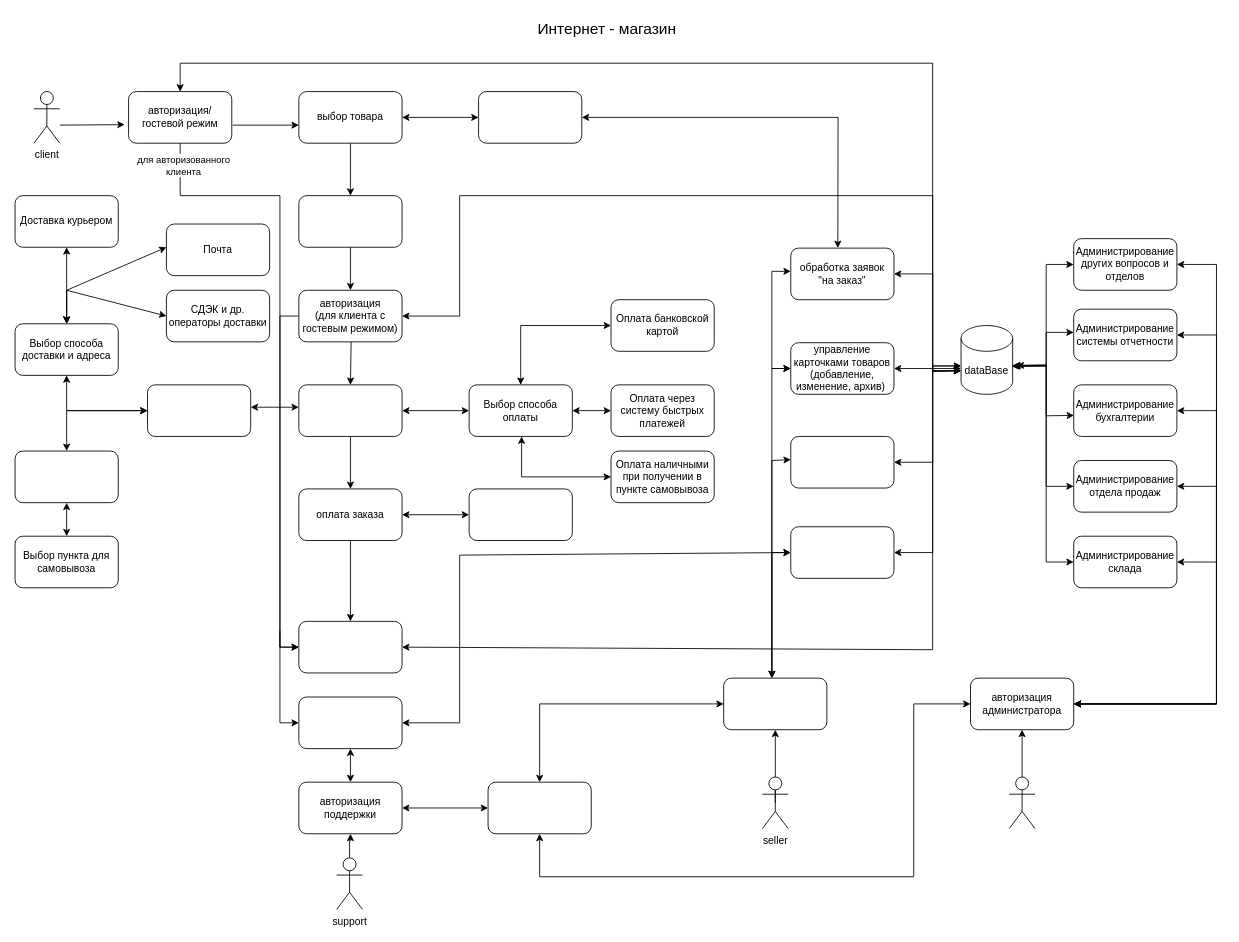
Some shapes in this 1239 by 942 pixel diagram are drawn without their labels. Each missing label, with the centre of its shape:
administrator: (1021,802)
авторизация продавца: (775,703)
Выбор способа получение товара: (199,410)
добавление/удаление товара в/из корзину(ы): (350,221)
если товара нет в наличии, то формируется заявка "на заказ": (530,117)
обратная связь: (350,722)
оформление заказа: (350,410)
платёжный шлюз: (520,514)
работа с отзывами и вопросами: (842,552)
Самовывоз: (66,476)
служебный чат: (539,807)
текущий статус заказа: (350,646)
управление акциями и скидками: (842,462)
